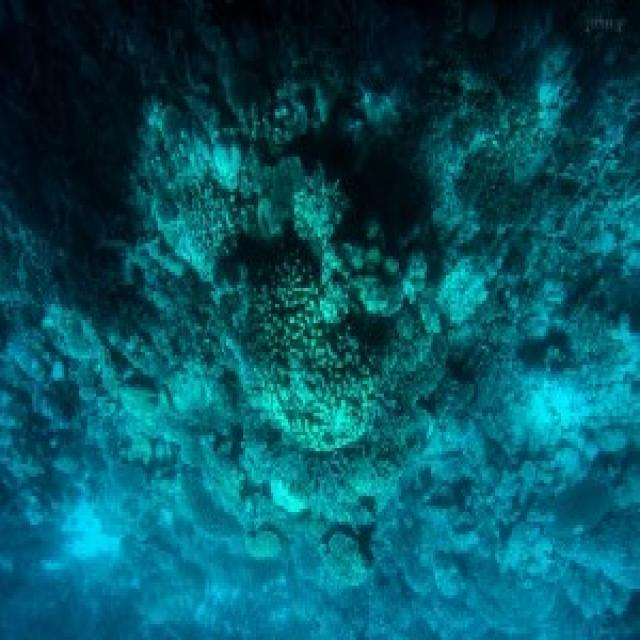Bleached: (135, 144, 241, 253), (507, 366, 640, 451), (433, 134, 483, 339), (536, 42, 574, 135), (173, 365, 219, 417), (271, 456, 310, 513)
Healthy: (264, 234, 408, 437), (323, 533, 373, 587)
